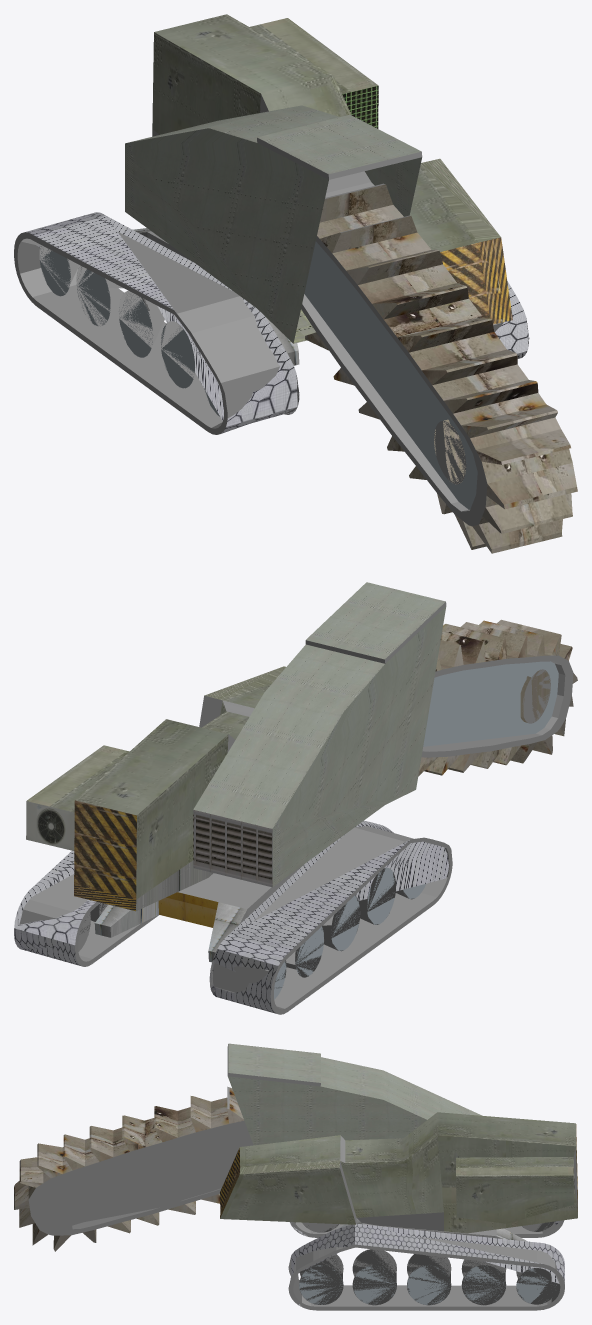
File: bulldozer_null_v4.FBX
3 renders of one model, top to bottom at view 1: azimuth 30°, elevation 25°; view 2: azimuth 150°, elevation 25°; view 3: azimuth 270°, elevation 25°, orthographic. The views are drawn at different scales.
Visible parts, largest first — view 1: Box02; view 2: Box02; view 3: Box02.
Part boxes in pixels (<box>): Box02: <box>14,14,577,553</box>; Box02: <box>14,582,577,1014</box>; Box02: <box>14,1043,577,1310</box>.
Bounding box in the file's own units: 65.01 × 59.93 × 161.
